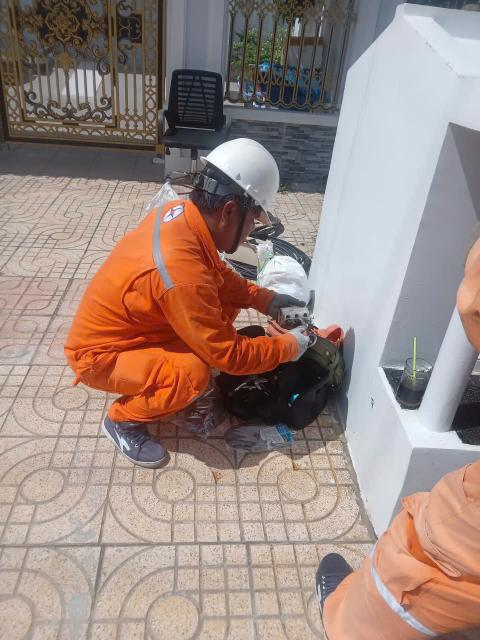gloves: (270, 288, 318, 324), (281, 318, 315, 360)
helmet: (201, 128, 293, 225)
shoes: (303, 533, 362, 627), (104, 402, 173, 479)
